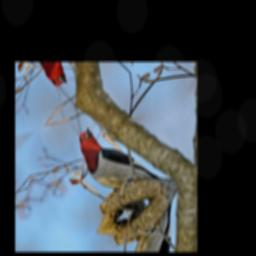Woodpecker: (67, 97, 168, 221)
